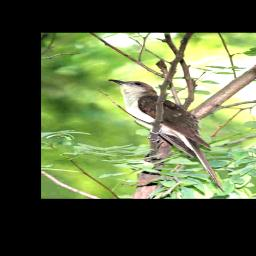Cuckoo: (108, 79, 225, 192)
